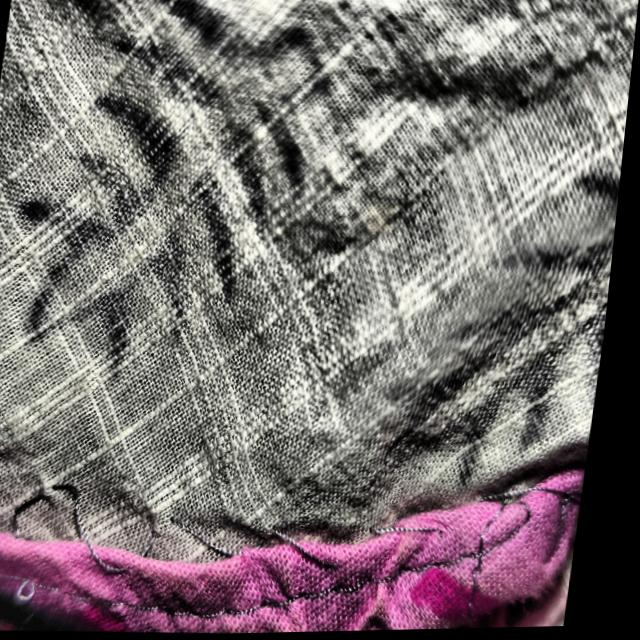Stitch: (0, 490, 261, 613)
